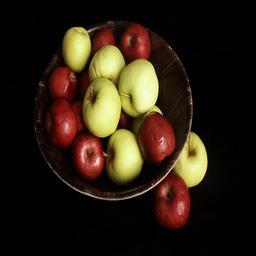apple: (115, 58, 159, 118), (165, 129, 207, 189), (82, 77, 122, 138), (103, 126, 144, 185), (150, 172, 190, 230), (138, 112, 174, 160), (44, 97, 77, 147), (71, 131, 104, 180), (87, 44, 125, 83), (62, 26, 91, 73), (117, 23, 151, 62), (48, 67, 77, 98), (88, 28, 116, 55)
